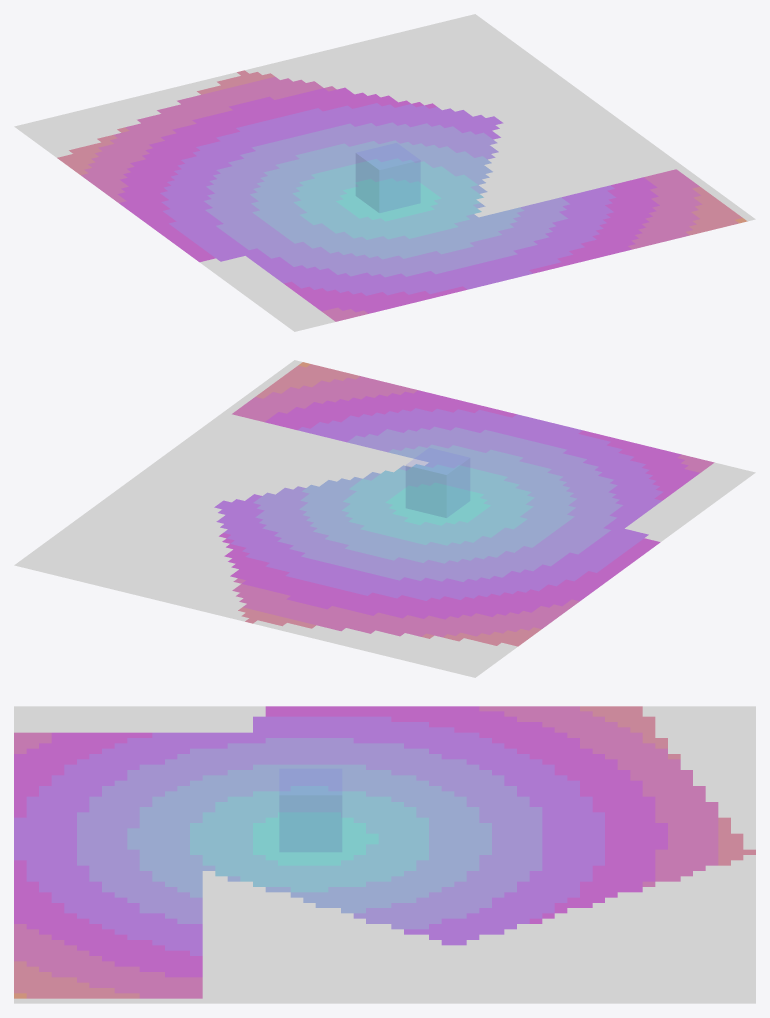
Rendered from Elements_Analysis_AnalysisMesh.glb.
3 renders of one model, top to bottom at view 1: azimuth 30°, elevation 25°; view 2: azimuth 150°, elevation 25°; view 3: azimuth 270°, elevation 25°, orthographic. The views are drawn at different scales.
Visible parts, largest first — view 1: e0452138-ea13-475c-8c45-1a4d8ed6bf61_mesh, 6035292e-089d-4643-ace5-37319beb5075_mesh; view 2: e0452138-ea13-475c-8c45-1a4d8ed6bf61_mesh, 6035292e-089d-4643-ace5-37319beb5075_mesh; view 3: e0452138-ea13-475c-8c45-1a4d8ed6bf61_mesh, 6035292e-089d-4643-ace5-37319beb5075_mesh.
Boxes of the visible parts, left/top/right/bottom form: e0452138-ea13-475c-8c45-1a4d8ed6bf61_mesh: left=14, top=14, right=755, bottom=331; 6035292e-089d-4643-ace5-37319beb5075_mesh: left=356, top=143, right=419, bottom=212; e0452138-ea13-475c-8c45-1a4d8ed6bf61_mesh: left=14, top=360, right=755, bottom=677; 6035292e-089d-4643-ace5-37319beb5075_mesh: left=406, top=448, right=469, bottom=517; e0452138-ea13-475c-8c45-1a4d8ed6bf61_mesh: left=14, top=706, right=755, bottom=1003; 6035292e-089d-4643-ace5-37319beb5075_mesh: left=280, top=769, right=341, bottom=851.
Bounding box in the file's own units: 11.2 × 1 × 11.8.
